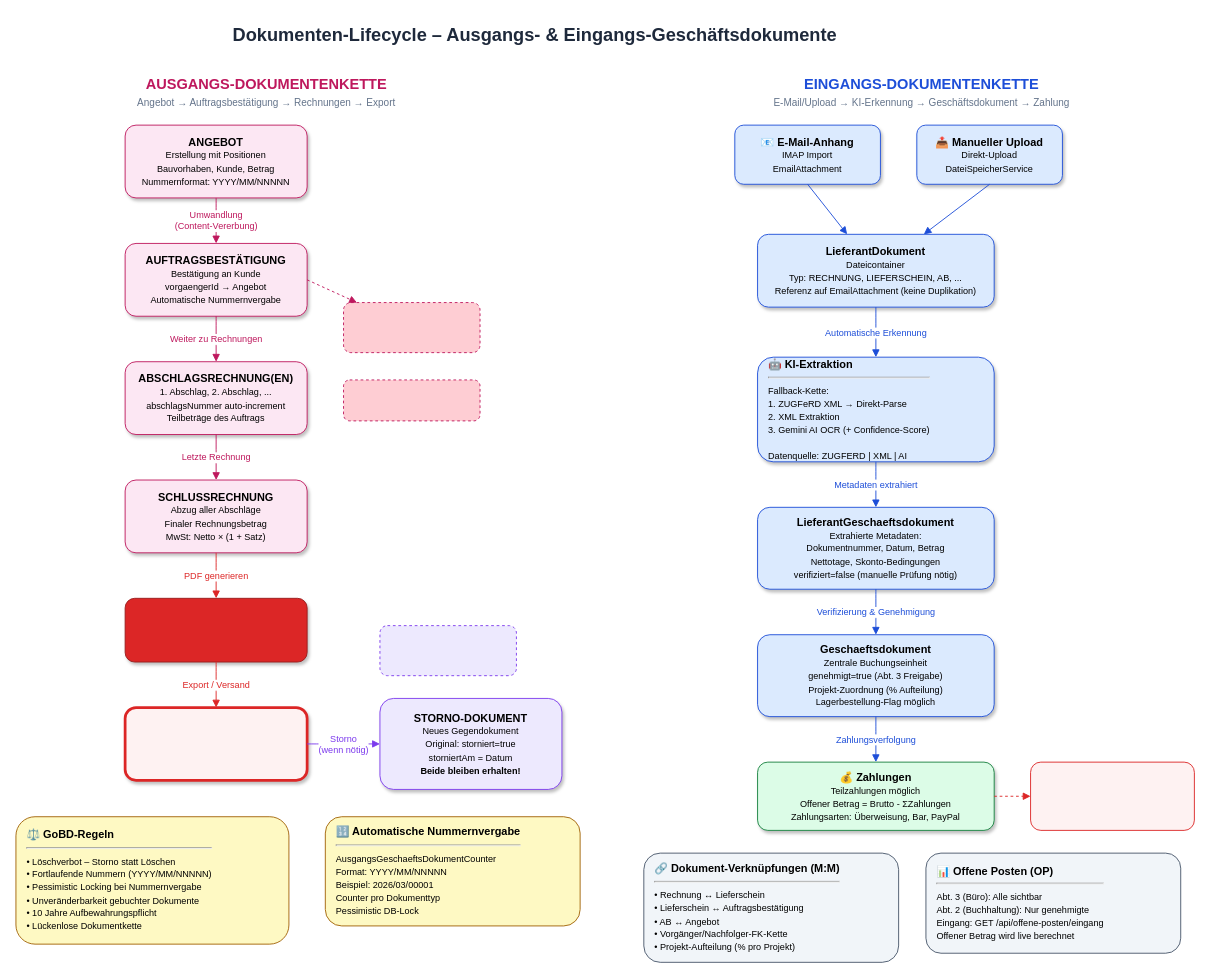
This 1210x978 diagram has some shape labels left out. Each missing label, with the centre of its shape:
"GUTSCHRIFT Eigenständiger Typ Rückerstattung" belongs at point (447, 650).
"PDF + ZUGFeRD RechnungPdfService ZugferdErstellService Hybrid-PDF mit XML" belongs at point (217, 631).
"RECHNUNG Einzelrechnung (ohne Abschläge)" belongs at point (411, 327).
"TEILRECHNUNG Zwischenabrechnung" belongs at point (411, 400).
"⚠️ Mahnwesen Stufe 1: Zahlungserinnerung Stufe 2: 1. Mahnung Stufe 3: 2. Mahnung" belongs at point (1112, 795).
"🔒 GEBUCHT gebucht=true UNVERÄNDERBAR (GoBD) Keine Bearbeitung möglich" belongs at point (216, 745).
